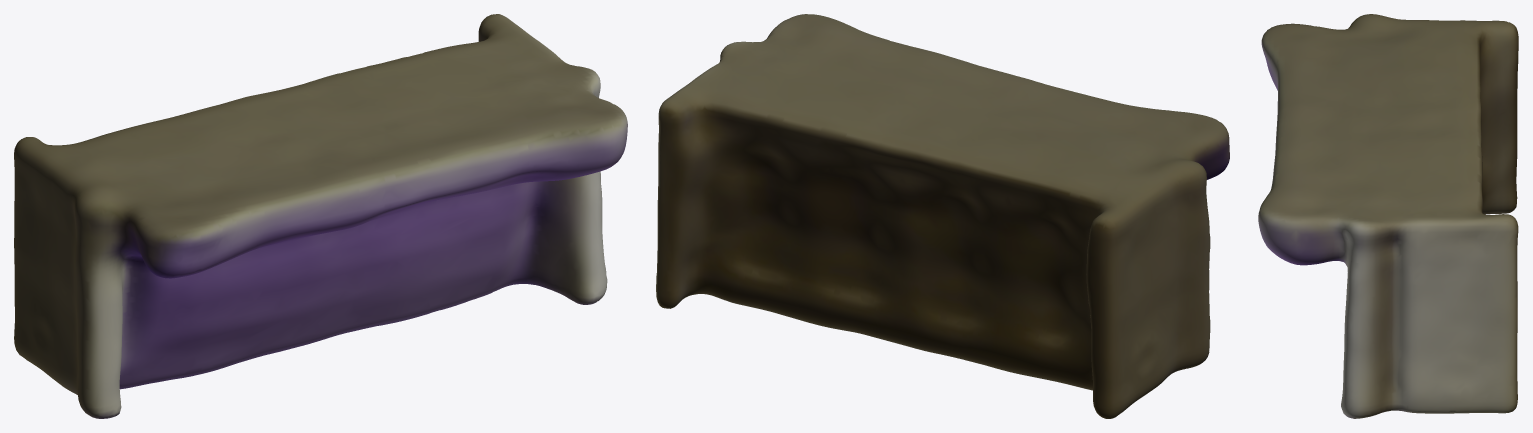
The model's file is sofa.glb.
3 views of the same model, side by side, from view 1: azimuth 30°, elevation 25°; view 2: azimuth 150°, elevation 25°; view 3: azimuth 270°, elevation 25° (orthographic). The views are drawn at different scales.
Size of the model in its own units: 0.9996 by 0.4356 by 0.4915.
